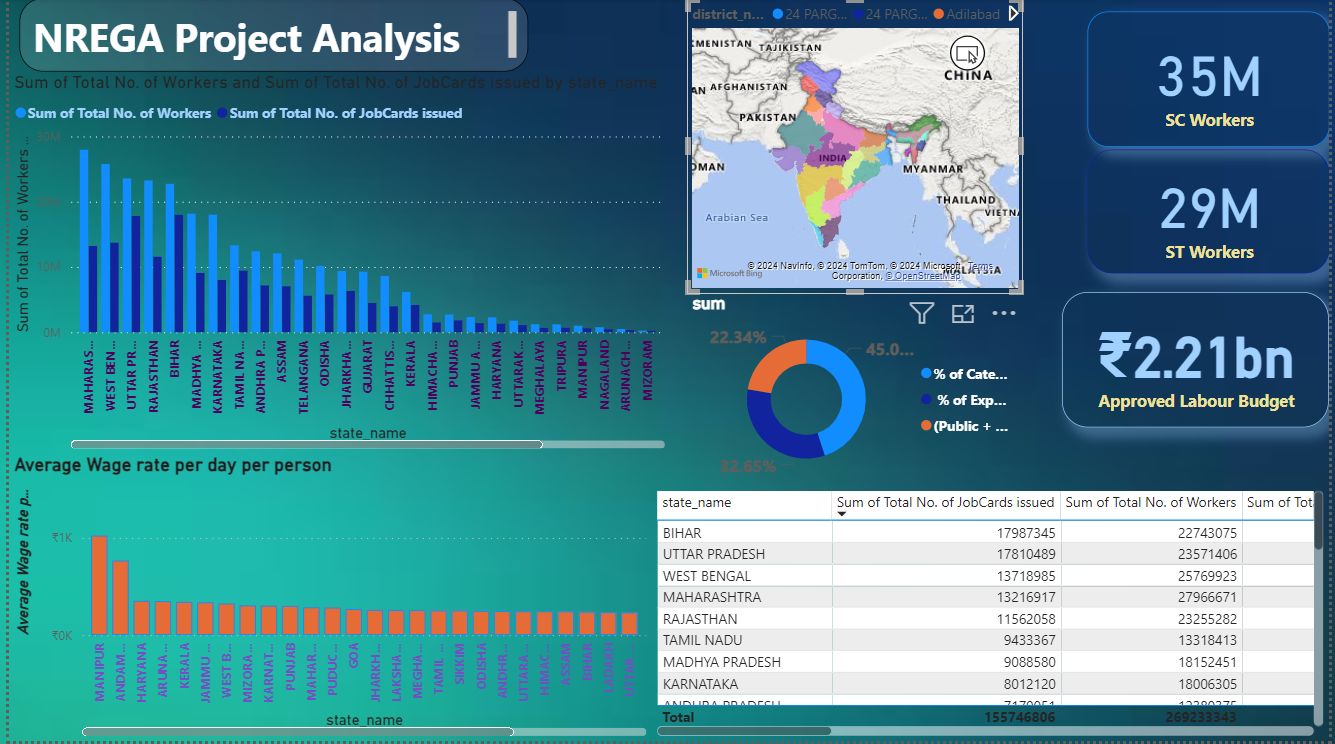

The dashboard page shown, as its layout file describes it:
{"tool":"powerbi","page":{"name":"Page 2","canvas":[1280,720],"ordinal":0},"visuals":[{"type":"textbox","box":[9.7,0,493.5,71.2],"z":0},{"type":"clusteredColumnChart","fields":{"Category":["NREGA.state_name"],"Y":["Sum(NREGA.Total No. of Workers)","Sum(NREGA.Total No. of JobCards issued)"]},"box":[0,71.2,640.7,370.5],"z":1000},{"type":"filledMap","fields":{"Category":["NREGA.state_name"],"Series":["NREGA.district_name"]},"box":[656.9,0,326.8,286.4],"z":2000},{"type":"tableEx","fields":{"Values":["NREGA.state_name","Sum(NREGA.Total No. of JobCards issued)","Sum(NREGA.Total No. of Workers)","Sum(NREGA.Total No. of Active Workers)","Sum(NREGA.Total No. of Active Job Cards)","Sum(NREGA.Total Exp(Rs. in Lakhs.))","Sum(NREGA.Wages(Rs. In Lakhs))","Sum(NREGA.Material and skilled Wages(Rs. In Lakhs))","Sum(NREGA.Left Amount)","Sum(NREGA.Total Households Worked)","Sum(NREGA.Total No of HHs completed 100 Days of Wage Employment)"]},"box":[622.9,472.4,656.9,247.6],"z":3000},{"type":"donutChart","title":"sum","fields":{"Y":["Sum(NREGA.% of Category B Works)","Sum(NREGA.% of Expenditure on Agriculture & Agriculture Allied Works)","Sum(NREGA.% of NRM Expenditure(Public + Individual))"]},"box":[656.9,284.8,326.8,187.7],"z":4000},{"type":"card","fields":{"Values":["Sum(NREGA.SC workers against active workers)"]},"box":[1045.2,12.9,234.6,131.1],"z":5000},{"type":"card","fields":{"Values":["Sum(NREGA.ST workers against active workers)"]},"box":[1045.2,147.2,234.6,119.7],"z":6000},{"type":"lineClusteredColumnComboChart","title":"Average Wage rate per day per person","fields":{"Category":["NREGA.state_name"],"Y":["Avg(NREGA.Average Wage rate per day per person(Rs.))"]},"box":[0,441.7,622.9,278.3],"z":7000},{"type":"card","fields":{"Values":["Sum(NREGA.Approved Labour Budget)"]},"box":[1021.4,285.7,258.6,131.4],"z":8000}]}

Visuals, with their boxes in screenshot pixels (x1, y1, x2, y2), scaled from the page's 1280x720 canvas onto the 1335x744 screenshot:
textbox: 10,0,525,74
clusteredColumnChart - NREGA.state_name x Sum(NREGA.Total No. of Workers): 0,74,668,456
filledMap - NREGA.state_name x NREGA.district_name: 685,0,1026,296
tableEx - NREGA.state_name x Sum(NREGA.Total No. of JobCards issued): 650,488,1334,743
"sum" donutChart: 685,294,1026,488
card - Sum(NREGA.SC workers against active workers): 1090,13,1334,149
card - Sum(NREGA.ST workers against active workers): 1090,152,1334,276
"Average Wage rate per day per person" lineClusteredColumnComboChart: 0,456,650,743
card - Sum(NREGA.Approved Labour Budget): 1065,295,1334,431
